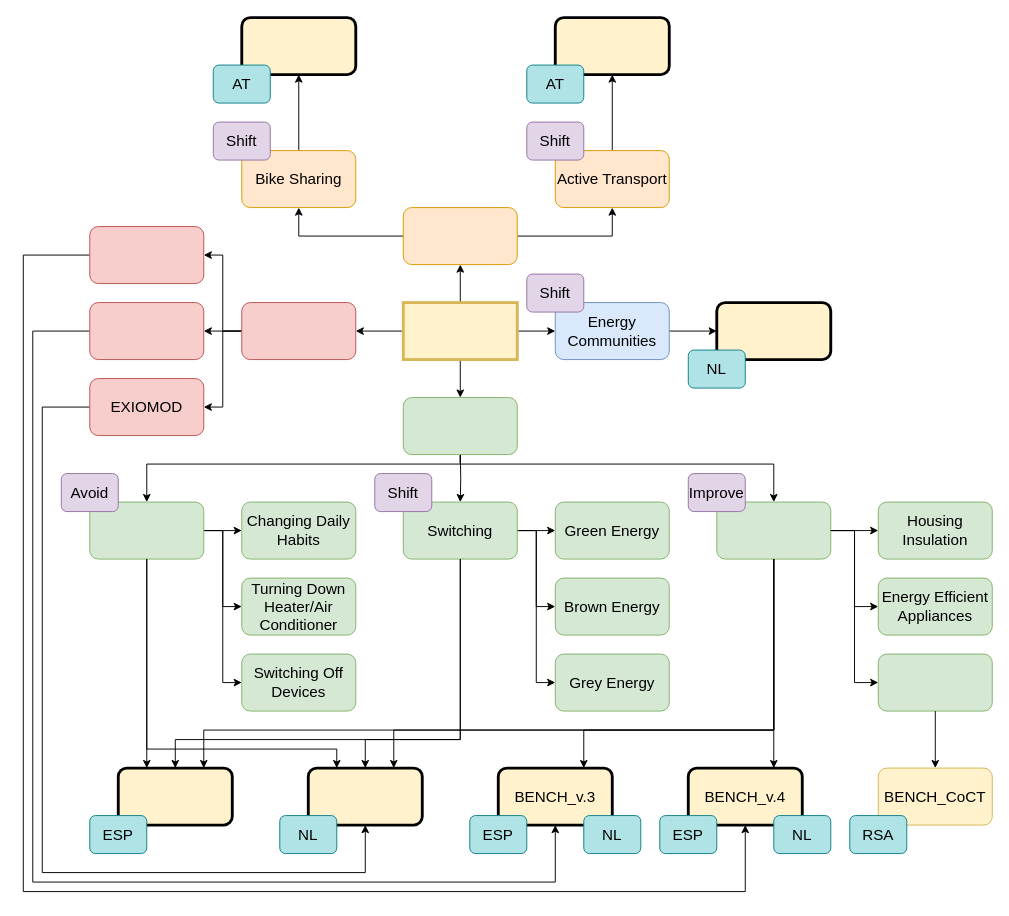
Some shapes in this 1009 by 916 pixel diagram are drawn without their labels. The shapes that lost their labels are listed below. From the top down, each one's centre as x and y in pixels, then its label:
the point at 298,46: BENCH_BSS
the point at 611,46: BENCH_ActMob
the point at 146,255: MESSAGEix Buildings
the point at 459,236: Transport
the point at 146,331: EU-EMS
the point at 298,331: Model Soft Coupling
the point at 459,331: BENCH
the point at 773,331: BENCH_EC
the point at 459,426: Buildings
the point at 146,530: Conservation
the point at 773,530: Investment
the point at 934,682: Rooftop Solar
the point at 174,796: BENCH_v.1
the point at 364,796: BENCH_v.2
